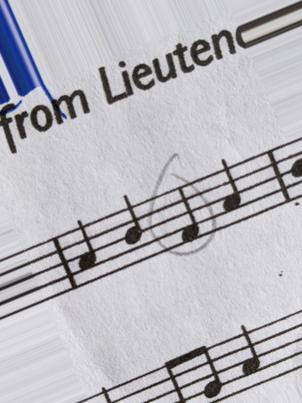A: (207, 156, 249, 225), (66, 220, 105, 285), (232, 325, 269, 392)
B: (112, 191, 148, 268)
F: (170, 181, 206, 248)
